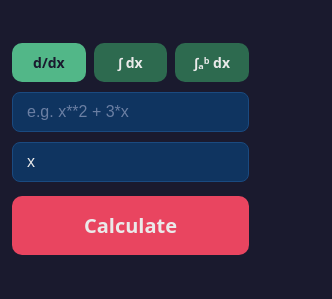
Test case: CalculusPanel › shows result string on successful calculation
The width and height of the screenshot is (332, 299).
Type "x**2" into the field named "expression" at (130, 112), box [12,92,249,132]
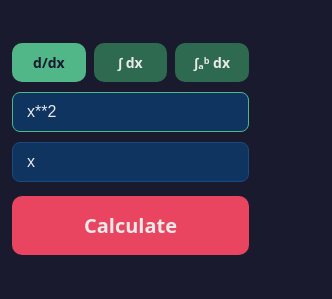
Click the button "Calculate" at (130, 226), box [12,196,249,255]
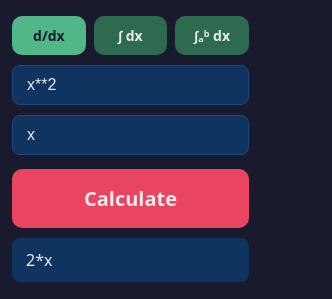
Expected: the text "2*x" is shown, [12,238,249,282]
